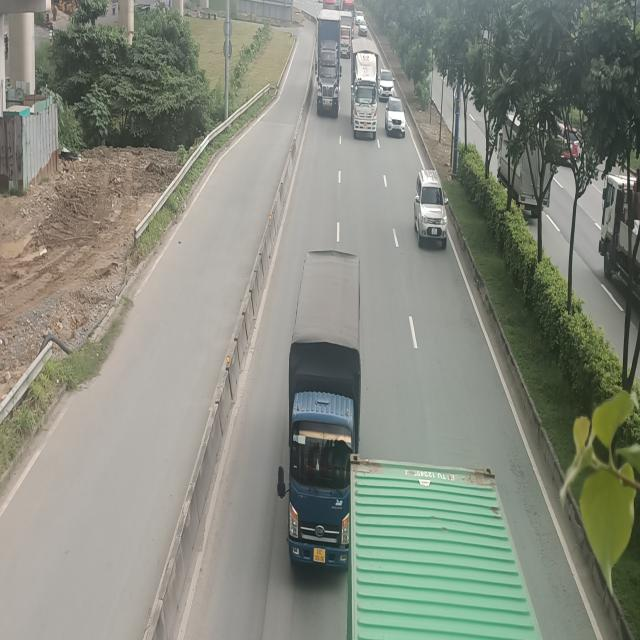car: (414, 170, 448, 249), (384, 97, 406, 137), (379, 69, 396, 99)
container: (315, 11, 342, 119)
truck: (276, 249, 362, 574), (351, 38, 379, 140)
